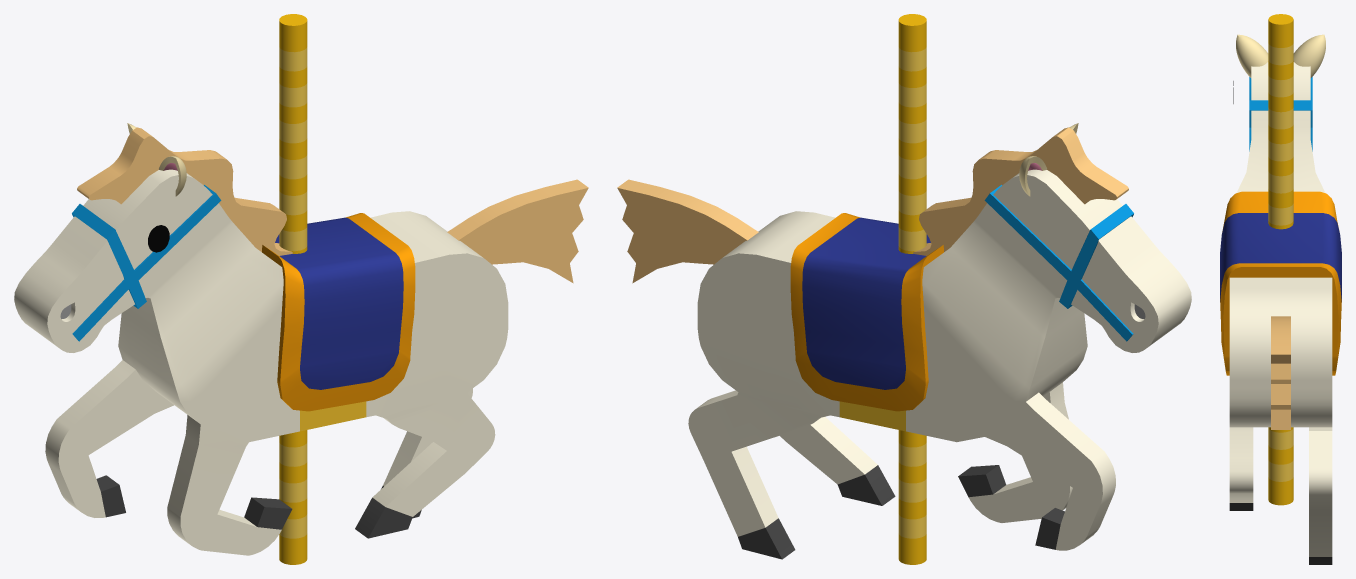
File: carousel_horse.fbx
The picture shows the model from 3 angles, left to right: view 1: azimuth 30°, elevation 25°; view 2: azimuth 150°, elevation 25°; view 3: azimuth 270°, elevation 25°; orthographic projection. The views are drawn at different scales.
Visible parts, largest first — view 1: Plane.226; view 2: Plane.226; view 3: Plane.226.
Part boxes in pixels (<box>): Plane.226: <box>14,14,588,564</box>; Plane.226: <box>617,14,1191,564</box>; Plane.226: <box>1220,14,1341,564</box>.
Size of the model in its own units: 222 by 209 by 47.57.
1 material, 1 textured.
